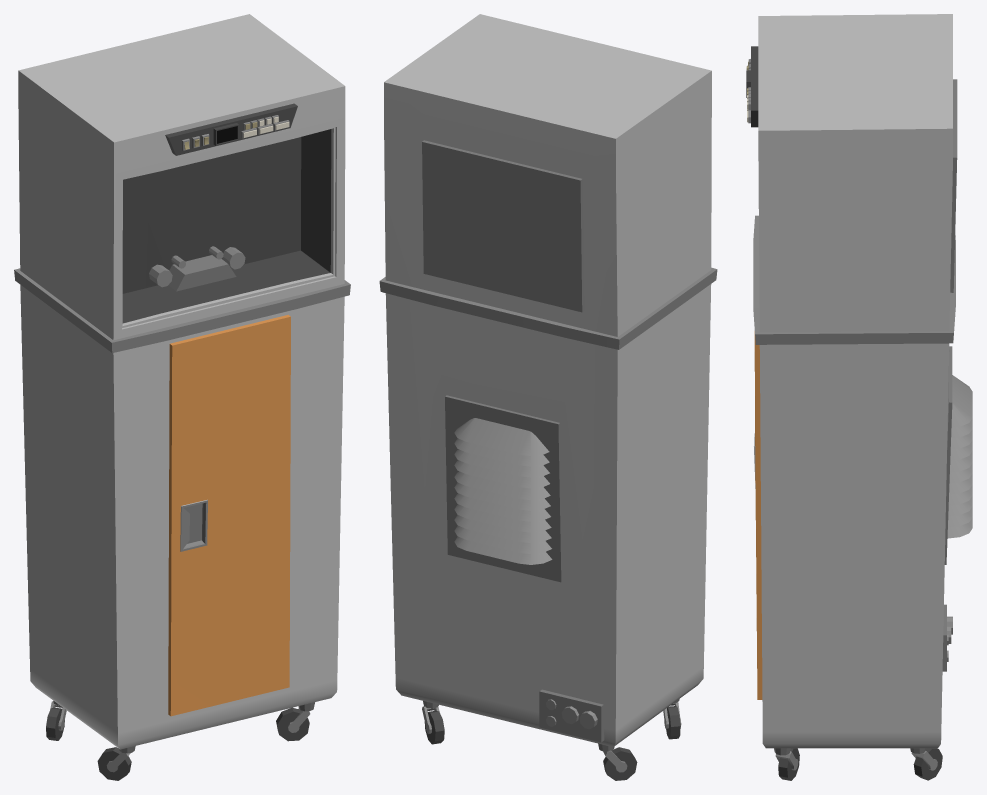
File: server2.fbx
The picture shows the model from 3 angles, left to right: view 1: azimuth 30°, elevation 25°; view 2: azimuth 150°, elevation 25°; view 3: azimuth 270°, elevation 25°; orthographic projection.
Parts seen in each view (by area): view 1: Cube.022; view 2: Cube.022; view 3: Cube.022.
Part boxes in pixels (<box>): Cube.022: <box>14,14,350,780</box>; Cube.022: <box>379,14,717,780</box>; Cube.022: <box>746,14,972,780</box>.
Bounding box in the file's own units: 83.64 × 219 × 67.4.
